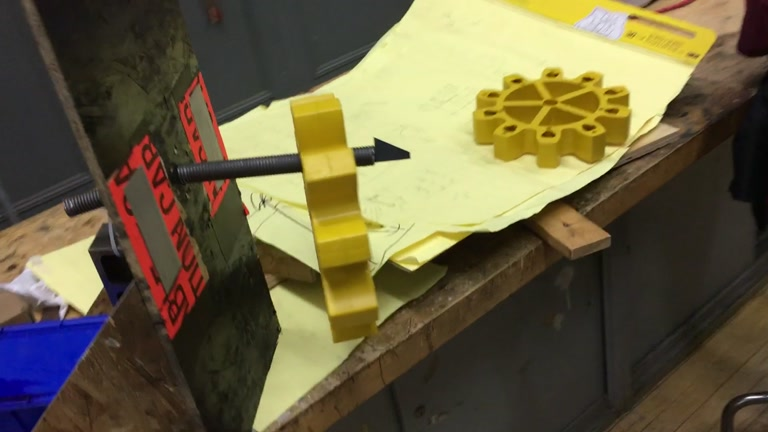gear: (290, 90, 381, 343), (473, 67, 632, 168)
